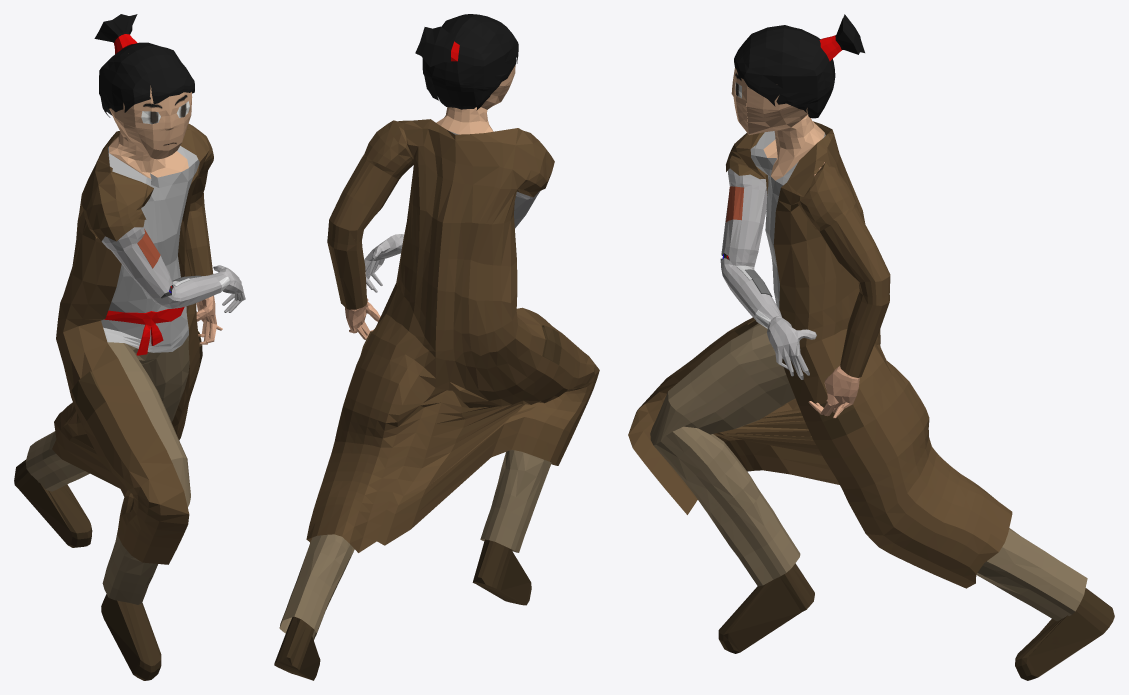
The model's file is One_DF_000006.obj.
3 renders of one model, left to right at view 1: azimuth 30°, elevation 25°; view 2: azimuth 150°, elevation 25°; view 3: azimuth 270°, elevation 25°, orthographic. The views are drawn at different scales.
Parts seen in each view (by area): view 1: Hair_Cube.004; view 2: Hair_Cube.004; view 3: Hair_Cube.004.
Boxes of the visible parts, left/top/right/bottom form: Hair_Cube.004: left=14, top=14, right=245, bottom=680; Hair_Cube.004: left=274, top=14, right=599, bottom=680; Hair_Cube.004: left=628, top=14, right=1114, bottom=680.
Bounding box in the file's own units: 1.08 × 3.57 × 2.43.
